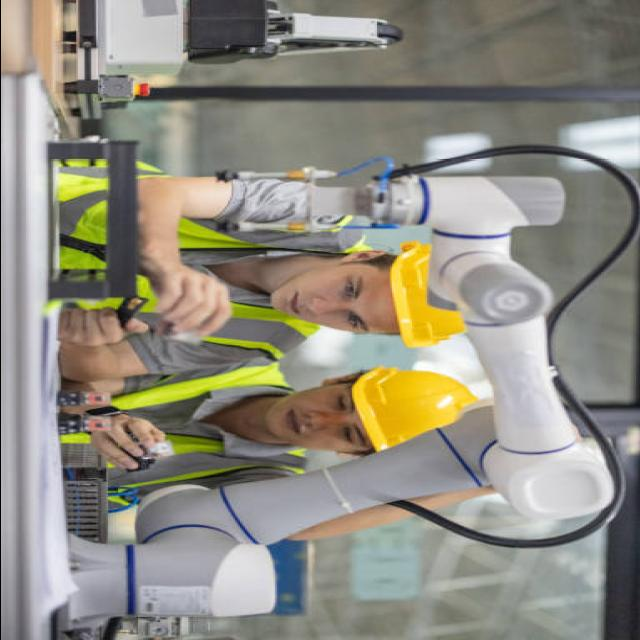Robotic-arm: (128, 153, 622, 626)
